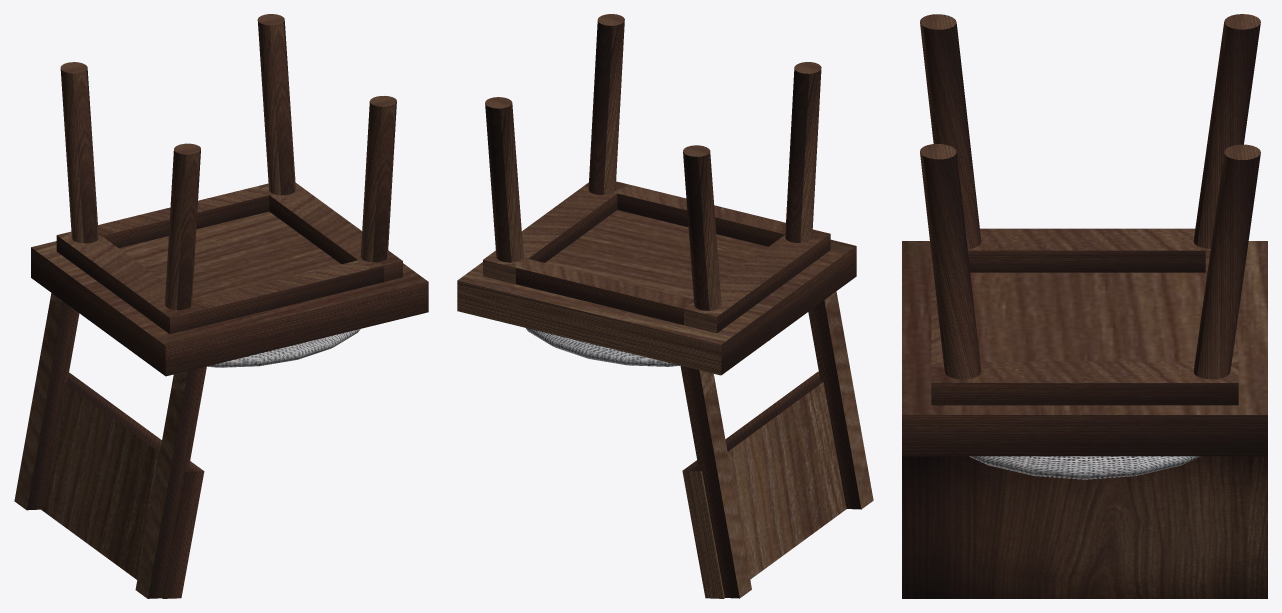
File: chair 1.fbx
3 views of the same model, side by side, from view 1: azimuth 30°, elevation 25°; view 2: azimuth 150°, elevation 25°; view 3: azimuth 270°, elevation 25° (orthographic). The views are drawn at different scales.
Visible parts, largest first — view 1: pCube11; view 2: pCube11; view 3: pCube11.
Boxes of the visible parts, x1,y1,x2,y2 form: pCube11: [14, 14, 428, 598]; pCube11: [457, 14, 873, 598]; pCube11: [902, 14, 1267, 598].
Bounding box in the file's own units: 3.09 × 4.58 × 2.57.
